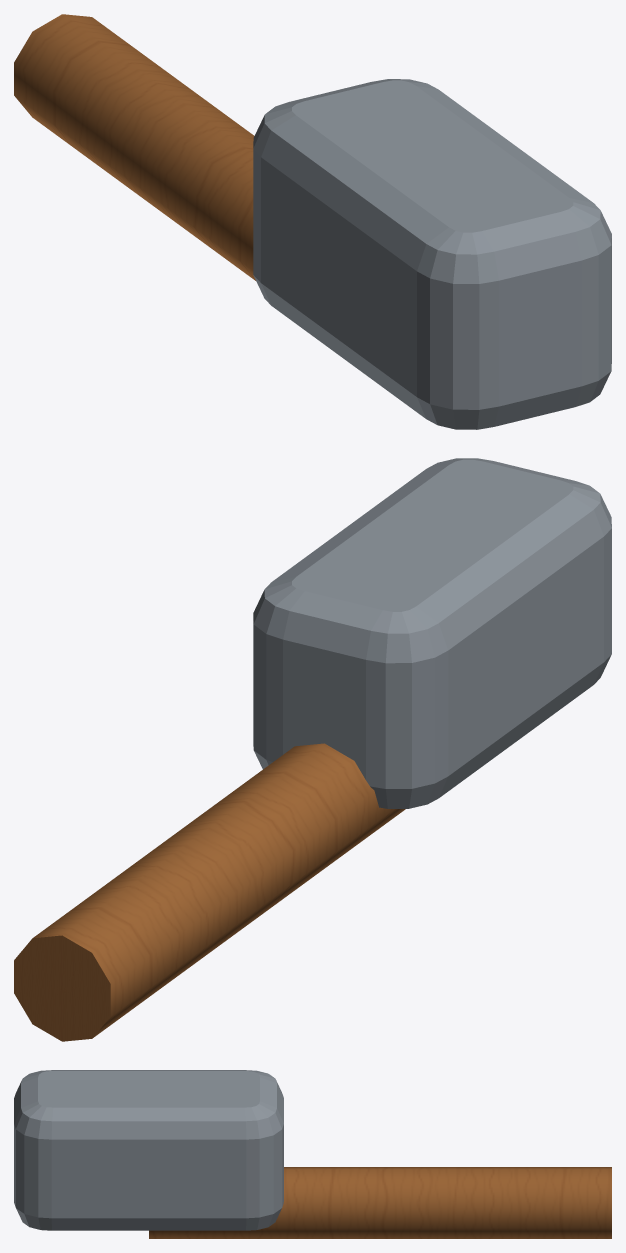
File: hammer.glb
3 renders of one model, top to bottom at view 1: azimuth 30°, elevation 25°; view 2: azimuth 150°, elevation 25°; view 3: azimuth 270°, elevation 25°, orthographic. The views are drawn at different scales.
Size of the model in its own units: 0.14 by 0.168 by 0.62.
Materials: 2 (1 with a texture image).
